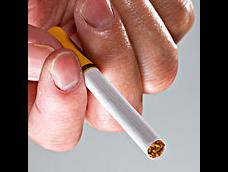Cigarette: (46, 25, 166, 158)
